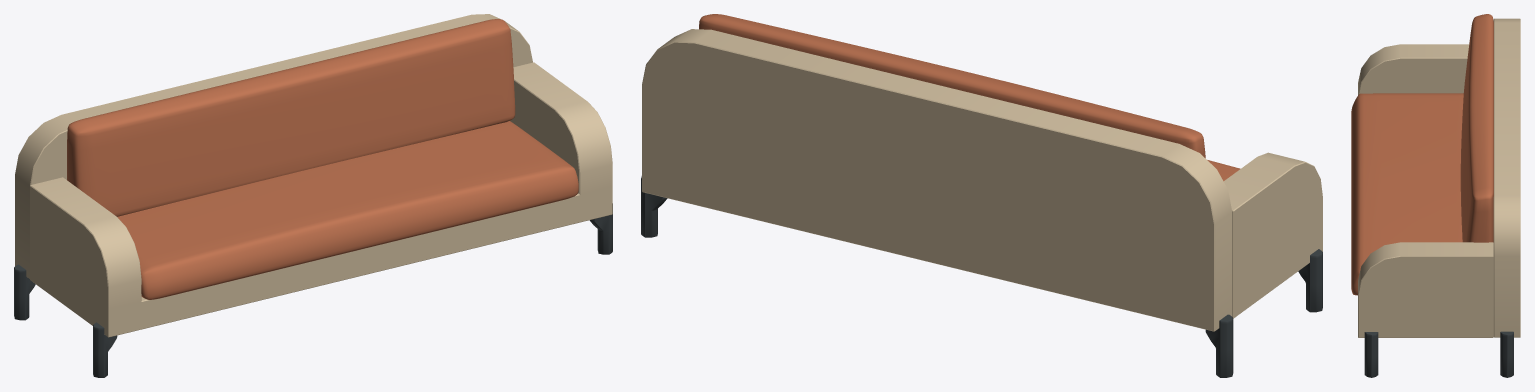
Rendered from Sofa.fbx.
3 renders of one model, left to right at view 1: azimuth 30°, elevation 25°; view 2: azimuth 150°, elevation 25°; view 3: azimuth 270°, elevation 25°, orthographic. The views are drawn at different scales.
Parts seen in each view (by area): view 1: Asiento, Sofá; view 2: Sofá, Asiento; view 3: Sofá, Asiento.
Part boxes in pixels (x1=…): Asiento: x1=67, y1=19, x2=578, y2=299; Sofá: x1=14, y1=14, x2=612, y2=377; Sofá: x1=641, y1=29, x2=1322, y2=377; Asiento: x1=699, y1=14, x2=1240, y2=181; Sofá: x1=1358, y1=18, x2=1520, y2=377; Asiento: x1=1351, y1=14, x2=1493, y2=295.
Size of the model in its own units: 760 by 271 by 250.
